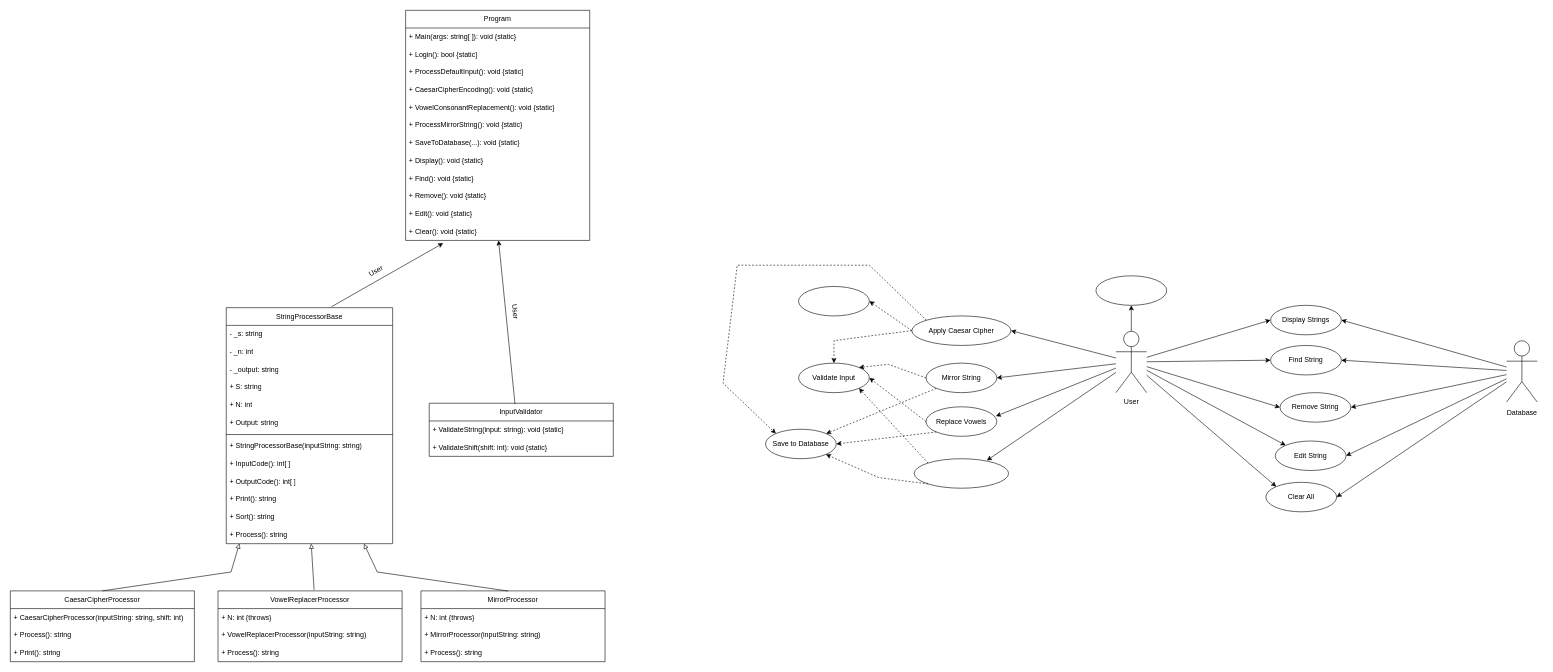
Image size: 1553x672. Some labels were removed from this diagram. The centre of each missing label's shape, as x and y in pixels:
Login: (1131,290)
Process Default Input: (961,473)
Validate Shift: (833,301)
